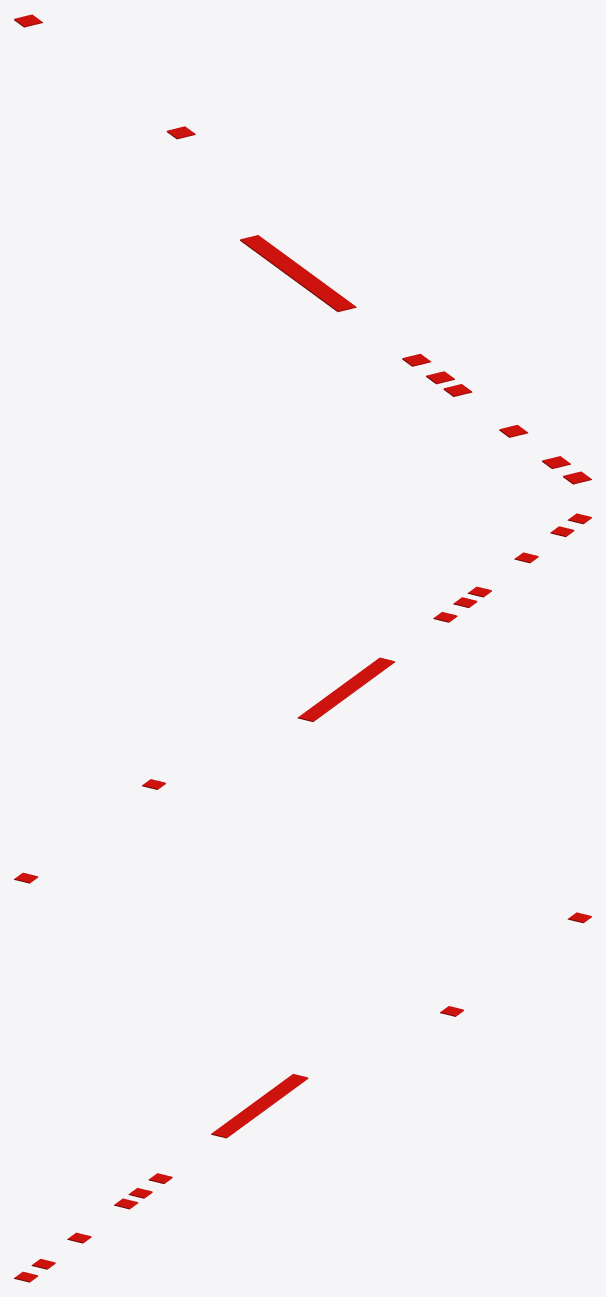
Rendered from K2_Red_Floor.fbx.
The picture shows the model from 3 angles, top to bottom: view 1: azimuth 30°, elevation 25°; view 2: azimuth 150°, elevation 25°; view 3: azimuth 330°, elevation 25°; orthographic projection. The views are drawn at different scales.
Parts seen in each view (by area): view 1: Jump_Medium.017; view 2: Jump_Medium.017; view 3: Jump_Medium.017.
Boxes of the visible parts, left/top/right/bottom form: Jump_Medium.017: left=14, top=14, right=591, bottom=484; Jump_Medium.017: left=14, top=513, right=591, bottom=883; Jump_Medium.017: left=14, top=912, right=591, bottom=1282.
Size of the model in its own units: 1200 by 20 by 17000.
